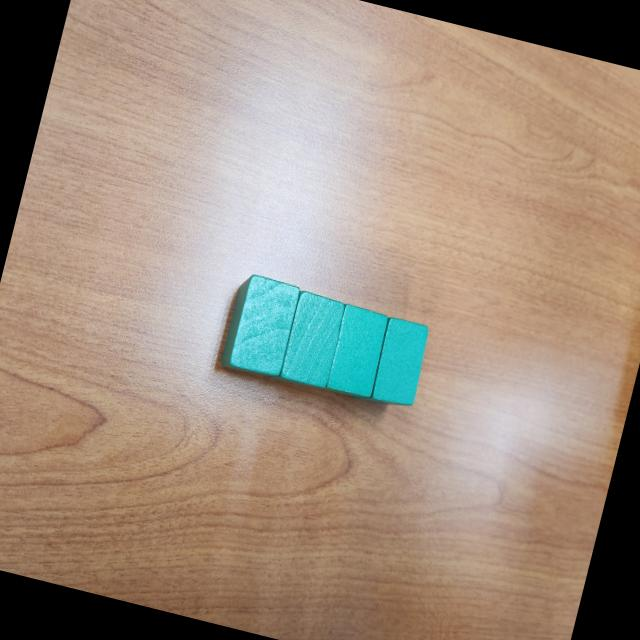green: (218, 270, 302, 382), (266, 286, 348, 394), (350, 312, 432, 413), (322, 303, 391, 404)
